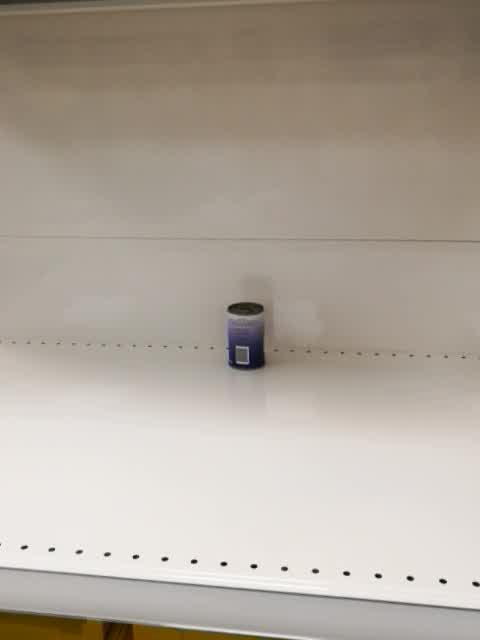sardine: (227, 302, 267, 373)
